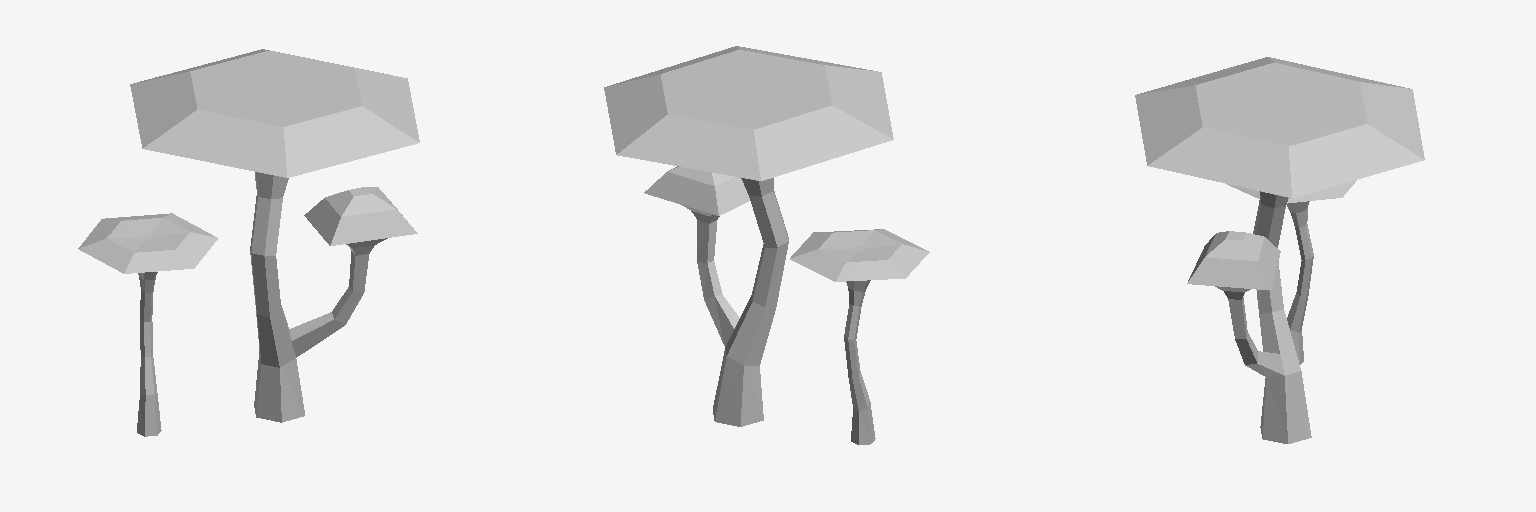
File: thinmushroomg1.obj
3 views of the same model, side by side, from view 1: azimuth 30°, elevation 25°; view 2: azimuth 150°, elevation 25°; view 3: azimuth 270°, elevation 25° (orthographic).
Bounding box in the file's own units: 1.2 × 1.19 × 0.9553.